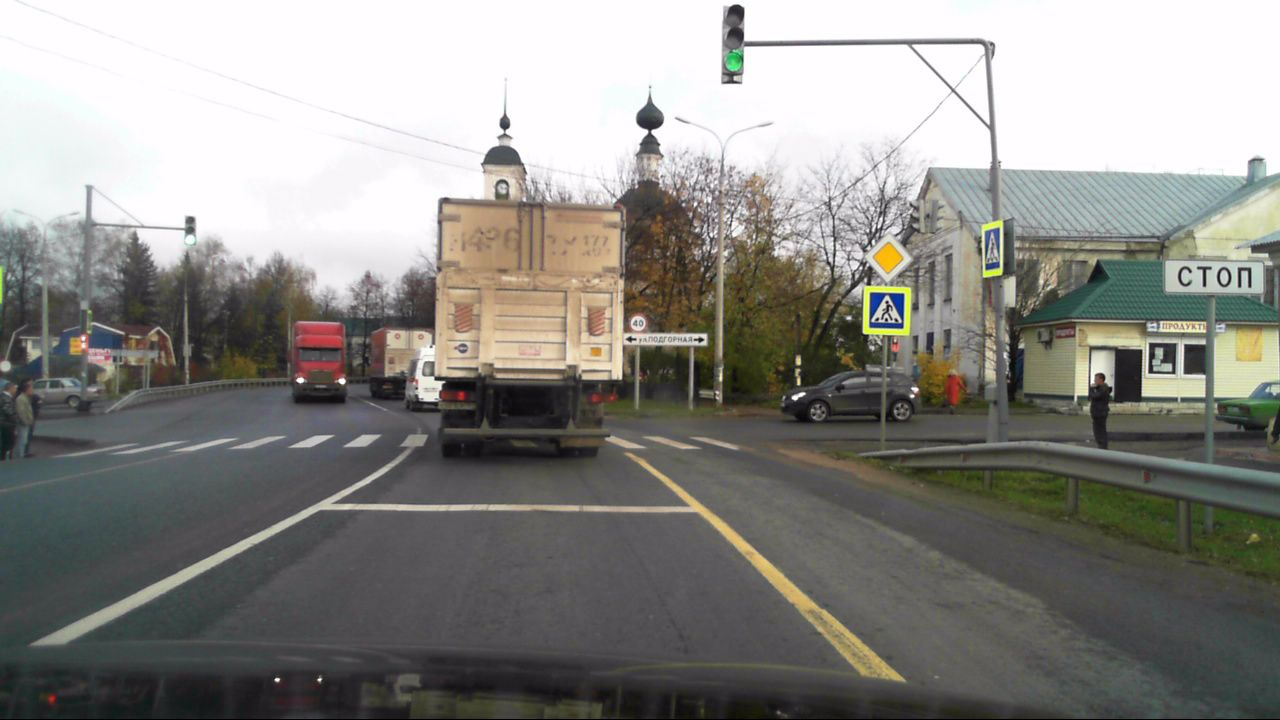speed_warning_40: (627, 312, 647, 333)
